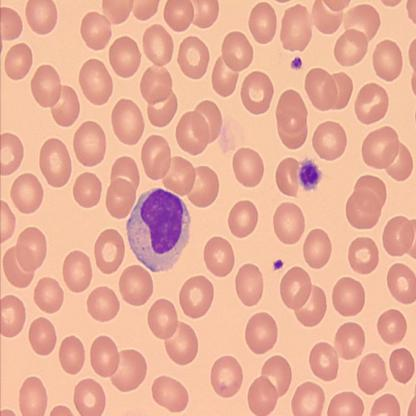Lymphocyte: (126, 187, 191, 273)
